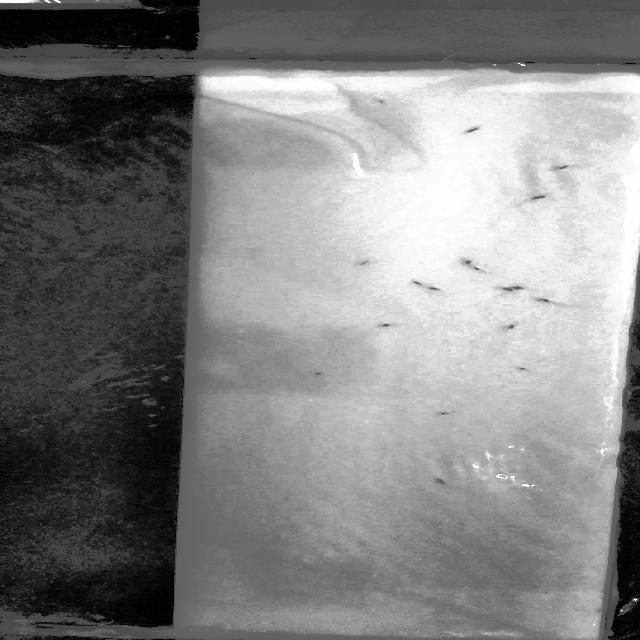shrimp: (510, 366, 540, 376), (354, 259, 384, 269), (492, 286, 517, 297), (504, 322, 530, 332), (460, 125, 488, 134), (468, 264, 493, 274), (451, 256, 478, 265), (506, 283, 532, 292), (432, 473, 448, 487), (527, 192, 548, 202), (528, 298, 562, 304), (304, 371, 332, 378), (374, 323, 401, 330), (409, 277, 429, 286), (553, 164, 575, 172), (421, 286, 448, 292), (435, 411, 454, 417)
